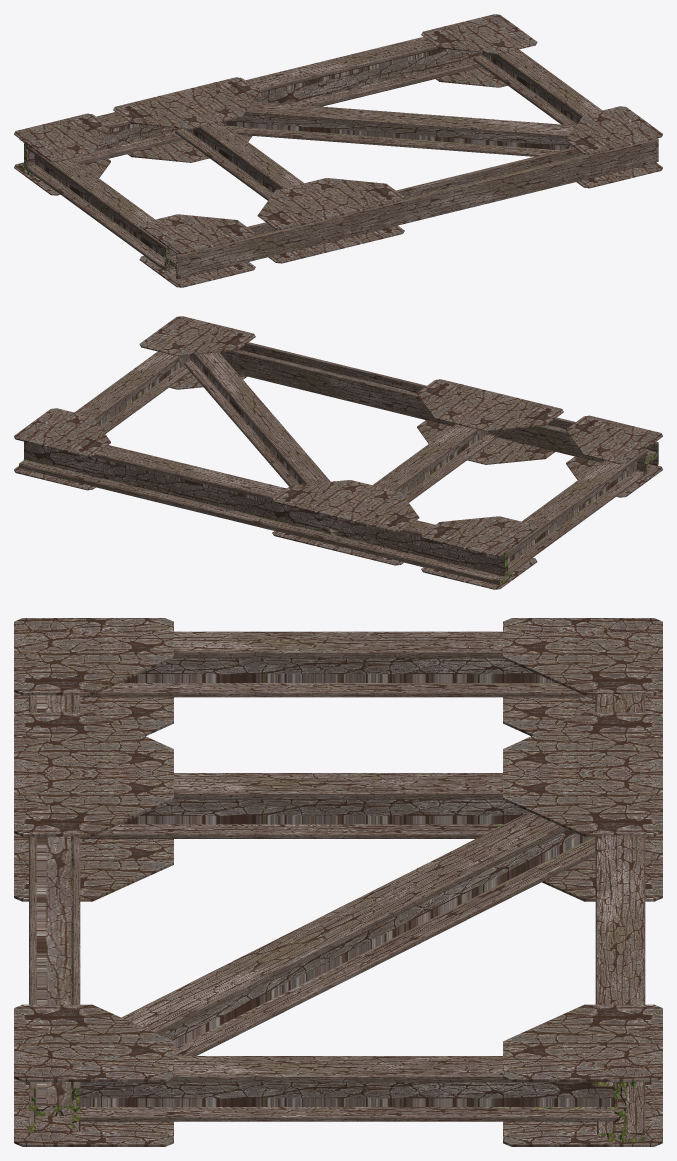
The model's file is block_cl_st.FBX.
3 renders of one model, top to bottom at view 1: azimuth 30°, elevation 25°; view 2: azimuth 150°, elevation 25°; view 3: azimuth 270°, elevation 25°, orthographic. The views are drawn at different scales.
Visible parts, largest first — view 1: block_cl; view 2: block_cl; view 3: block_cl.
Part boxes in pixels (<box>): block_cl: <box>14,14,662,287</box>; block_cl: <box>14,316,662,589</box>; block_cl: <box>14,618,662,1146</box>.
Size of the model in its own units: 26.15 by 15.54 by 1.78.
